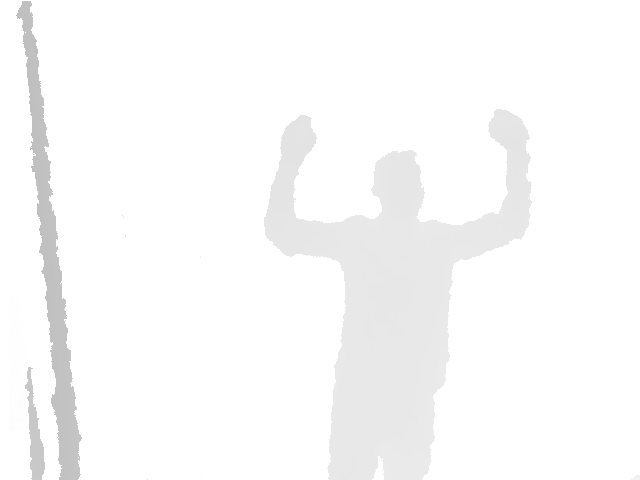hand: (488, 108, 531, 155), (280, 115, 317, 165)
head: (370, 148, 426, 222)
person: (263, 108, 532, 480)
